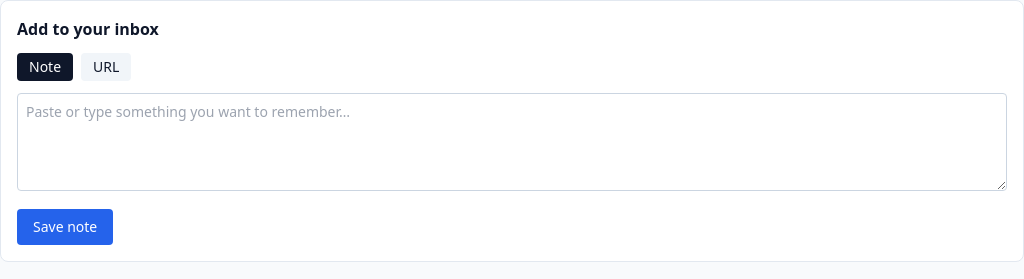
AddItemForm › shows validation and server errors without losing input
Click the tab "URL" at {"x": 106, "y": 67}, box [81,53,131,81]
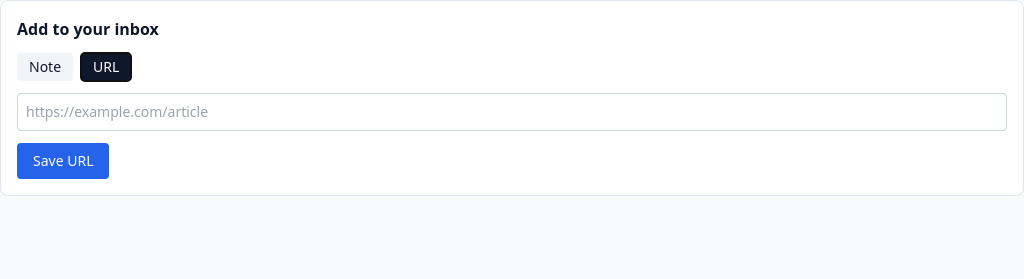
Click the button "Save URL" at {"x": 63, "y": 161}, box [17,143,110,179]
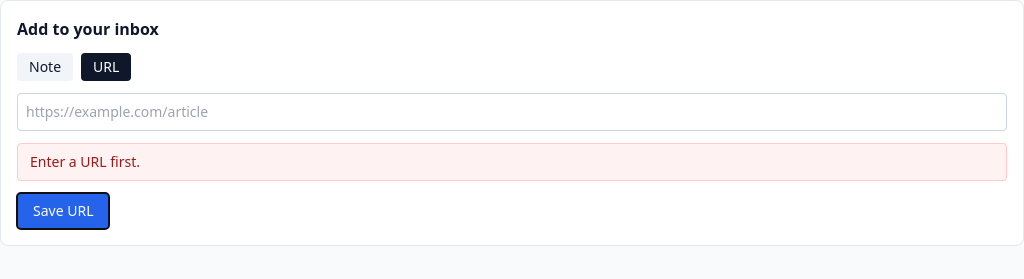
Expected: the message reads "Enter a URL first.", [30,152,140,171]
Type "http://localhost:3001" into the field named "URL" at {"x": 512, "y": 112}, box [17,93,1007,131]
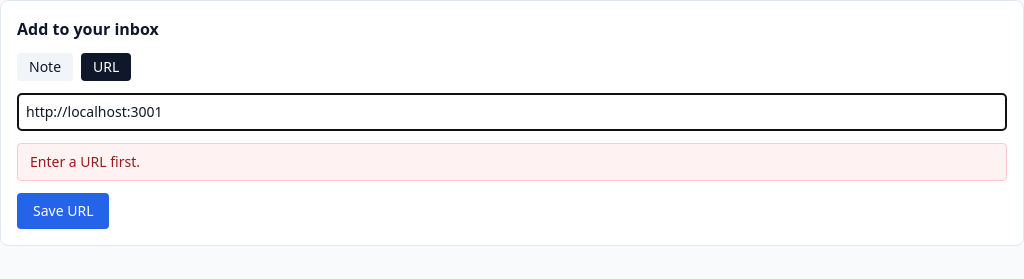
Click the button "Save URL" at {"x": 63, "y": 211}, box [17,193,110,229]
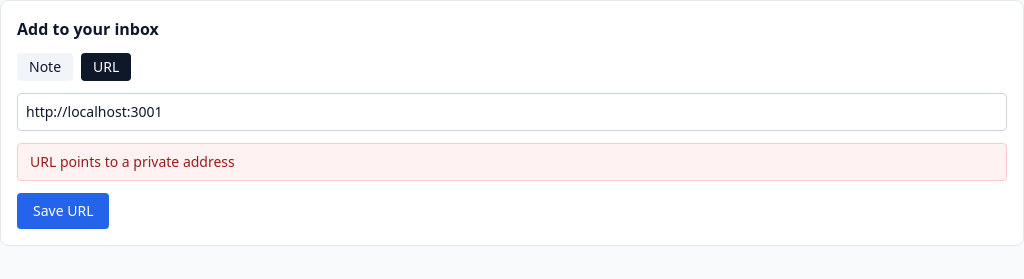
Expected: the message shows "private address", [30,152,235,171]
